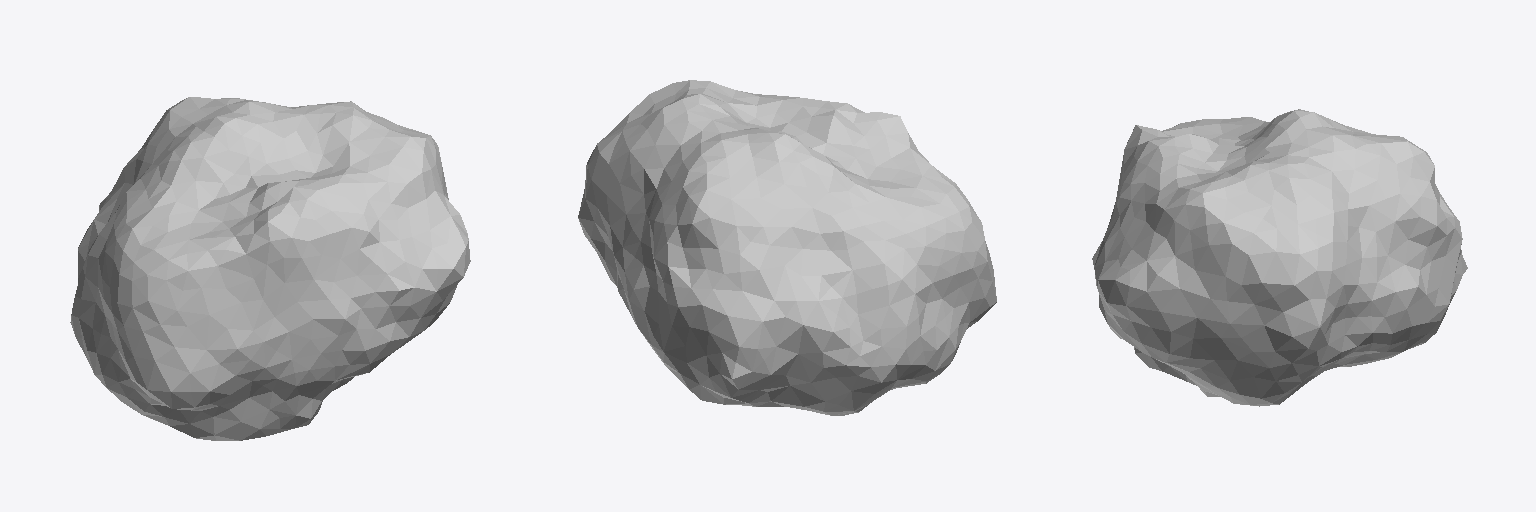
The model's file is rock_a.obj.
The picture shows the model from 3 angles: view 1: azimuth 30°, elevation 25°; view 2: azimuth 150°, elevation 25°; view 3: azimuth 270°, elevation 25°; orthographic projection.
Visible parts, largest first — view 1: Icosphere; view 2: Icosphere; view 3: Icosphere.
Part boxes in pixels (left/top/right/bottom): Icosphere: left=70, top=97, right=470, bottom=440; Icosphere: left=578, top=80, right=996, bottom=415; Icosphere: left=1092, top=109, right=1467, bottom=406.
Bounding box in the file's own units: 2.09 × 1.51 × 1.93.